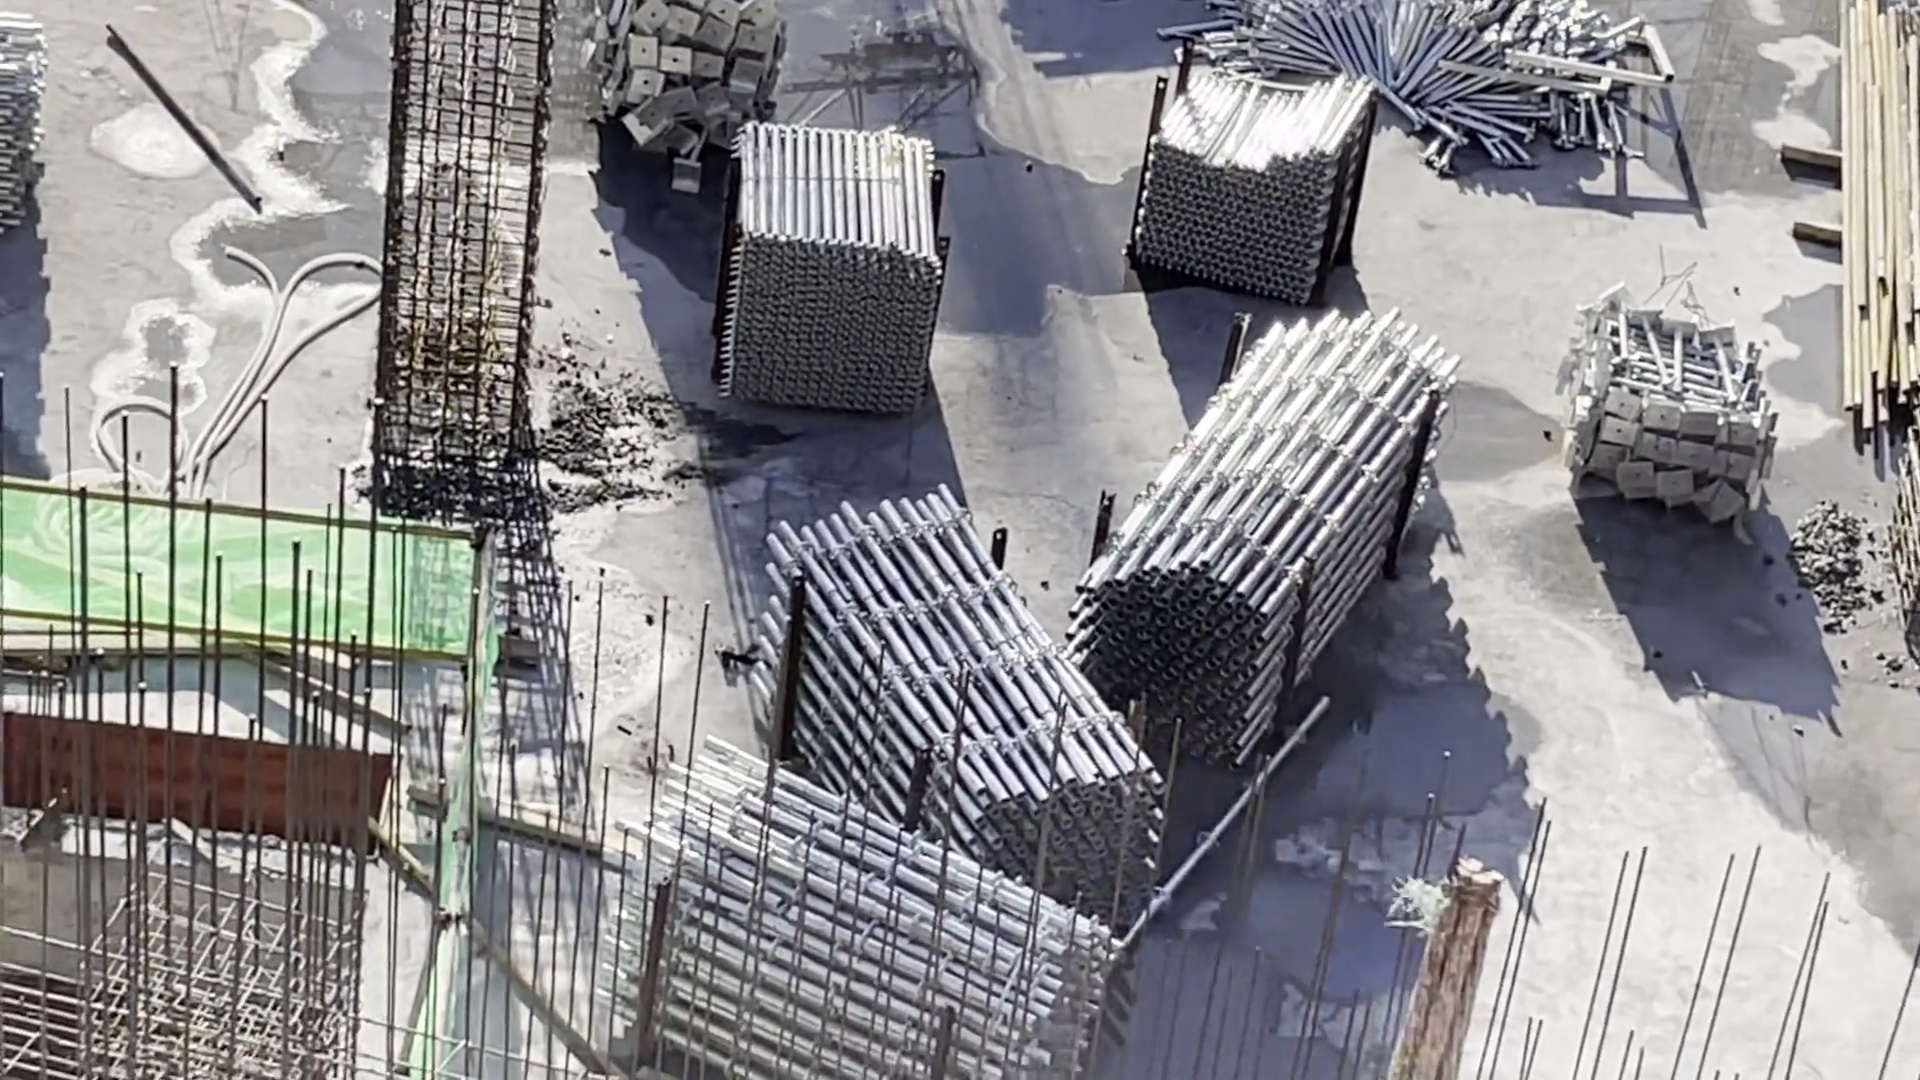scaffold: (767, 520, 1168, 949), (609, 757, 1096, 1080), (1110, 318, 1433, 712), (1236, 1, 1644, 175), (738, 123, 943, 430), (1147, 61, 1367, 297), (1563, 299, 1778, 524), (607, 1, 794, 183)
